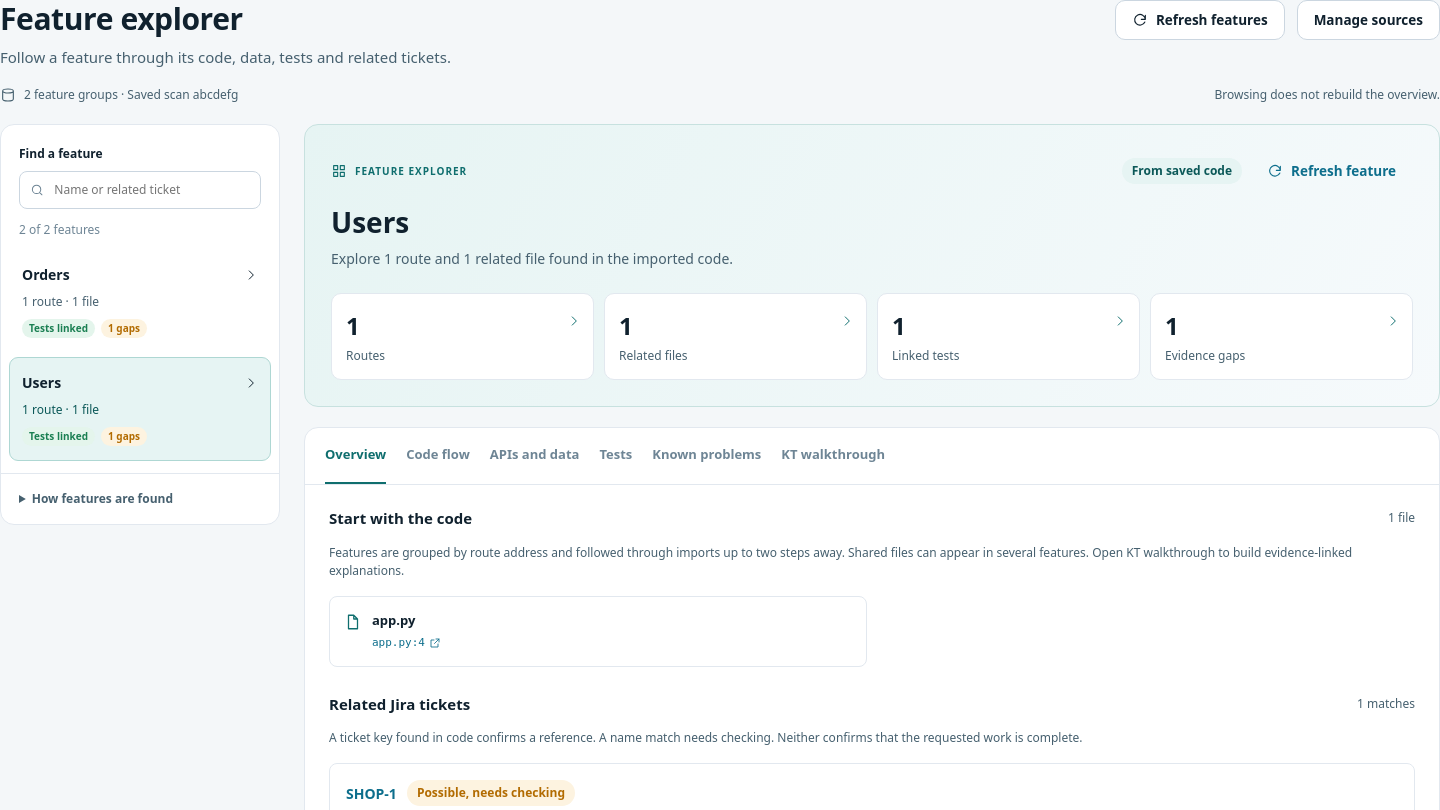
Scenario: opens a deep-linked feature and changes tabs without generating or rereading data
The image size is (1440, 810).
Expected: the heading "Users" is shown, [331,203,409,241]
Click the tab "Code flow" at (438, 456), box [406,428,470,484]
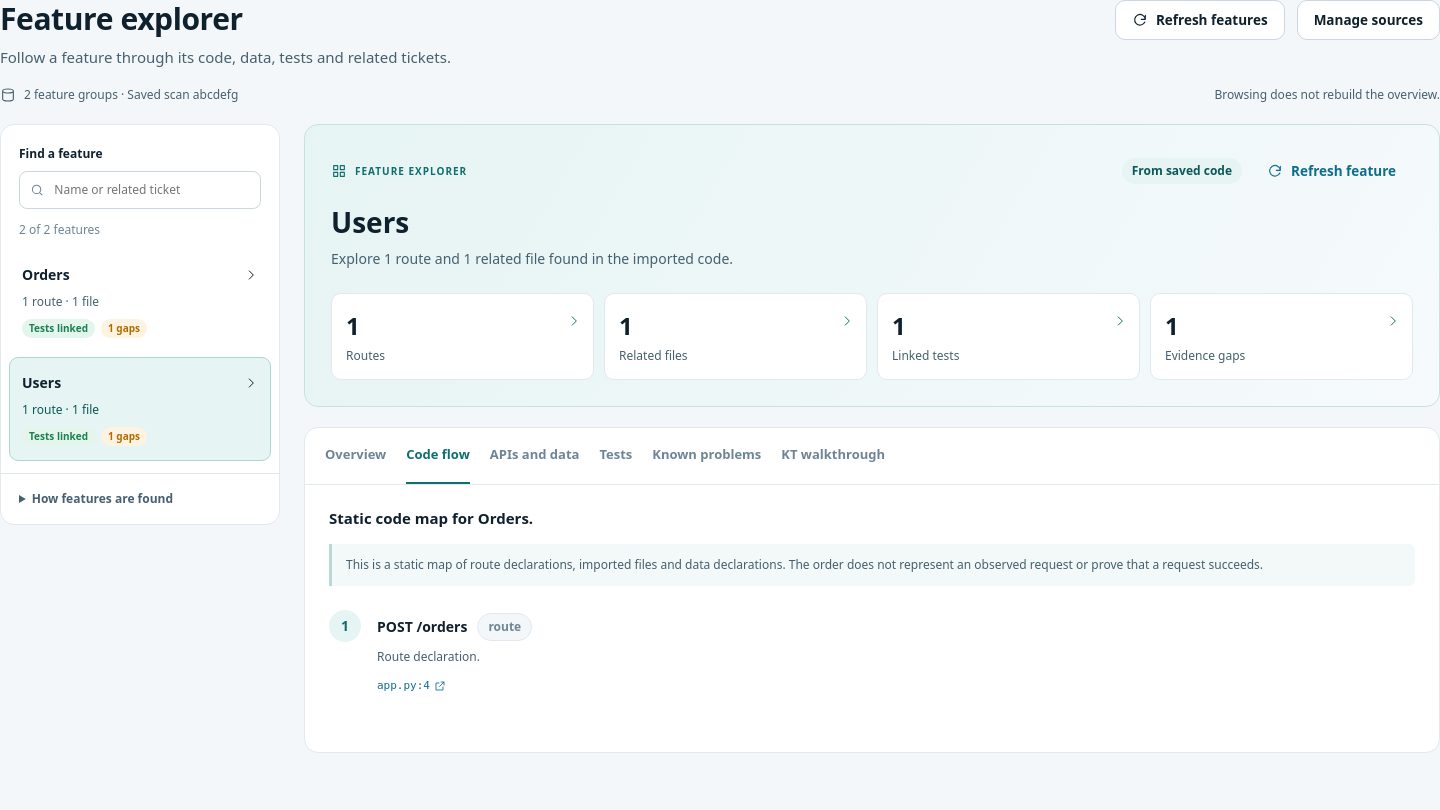
Result: the panel with id "feature-panel" shows "does not represent an observed request" at [346,556,1263,572]
Click the tab "APIs and data" at (535, 456), box [490,428,579,484]
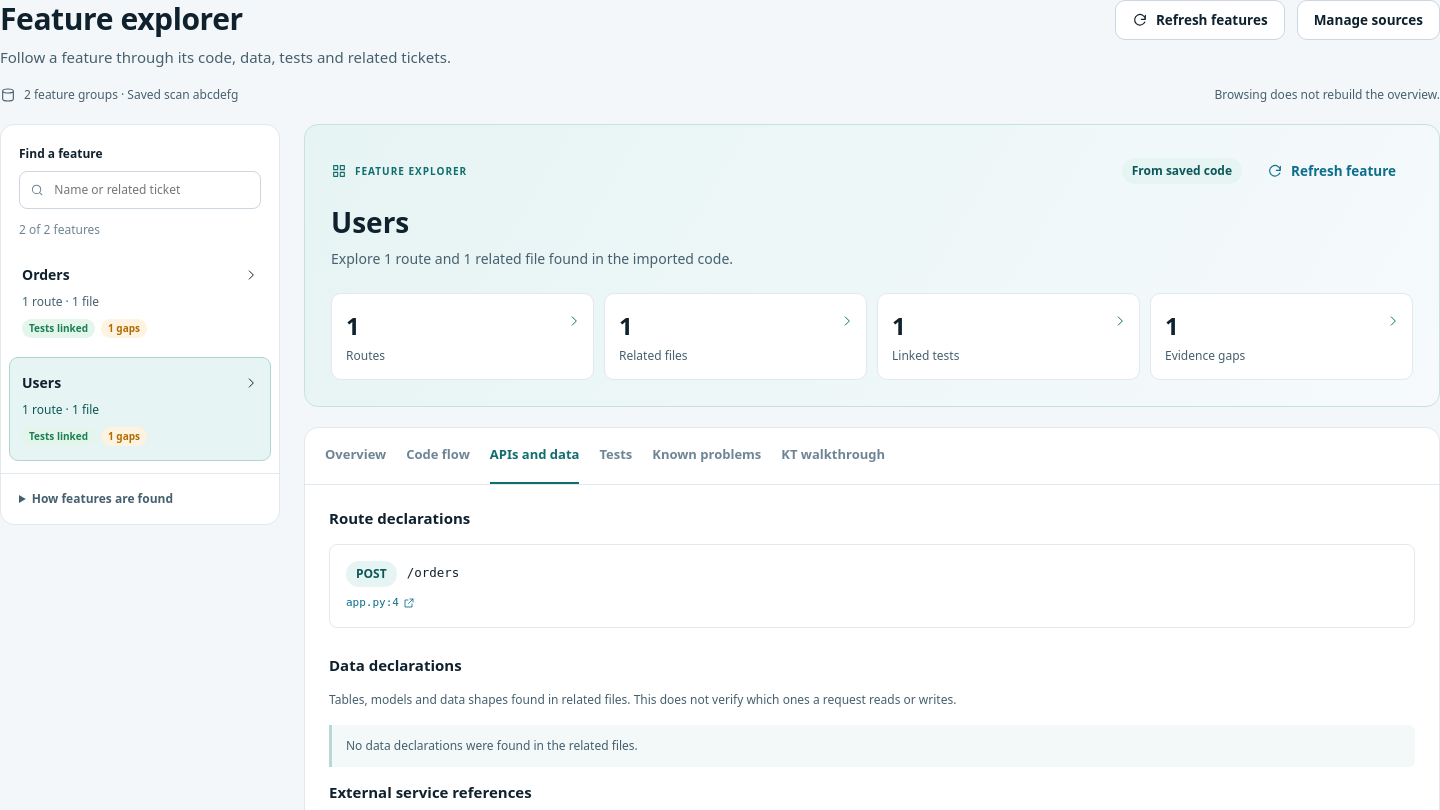
Result: the panel with id "feature-panel" shows "/orders" at [407,565,459,580]
Click the tab "Tests" at (616, 456), box [599,428,632,484]
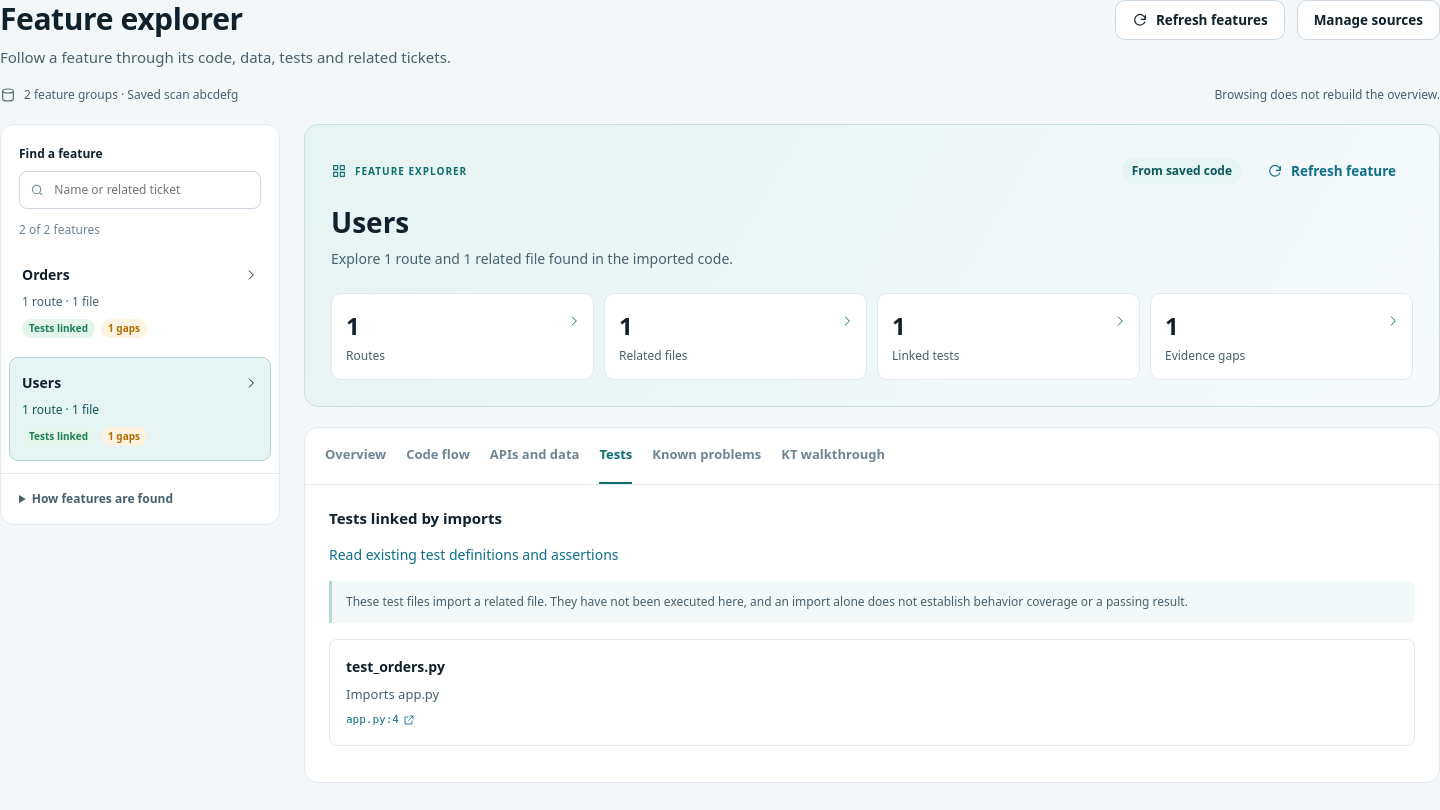
Result: the panel with id "feature-panel" shows "not been executed here" at [346,592,1188,610]
Click the tab "Known problems" at (707, 456), box [652,428,761,484]
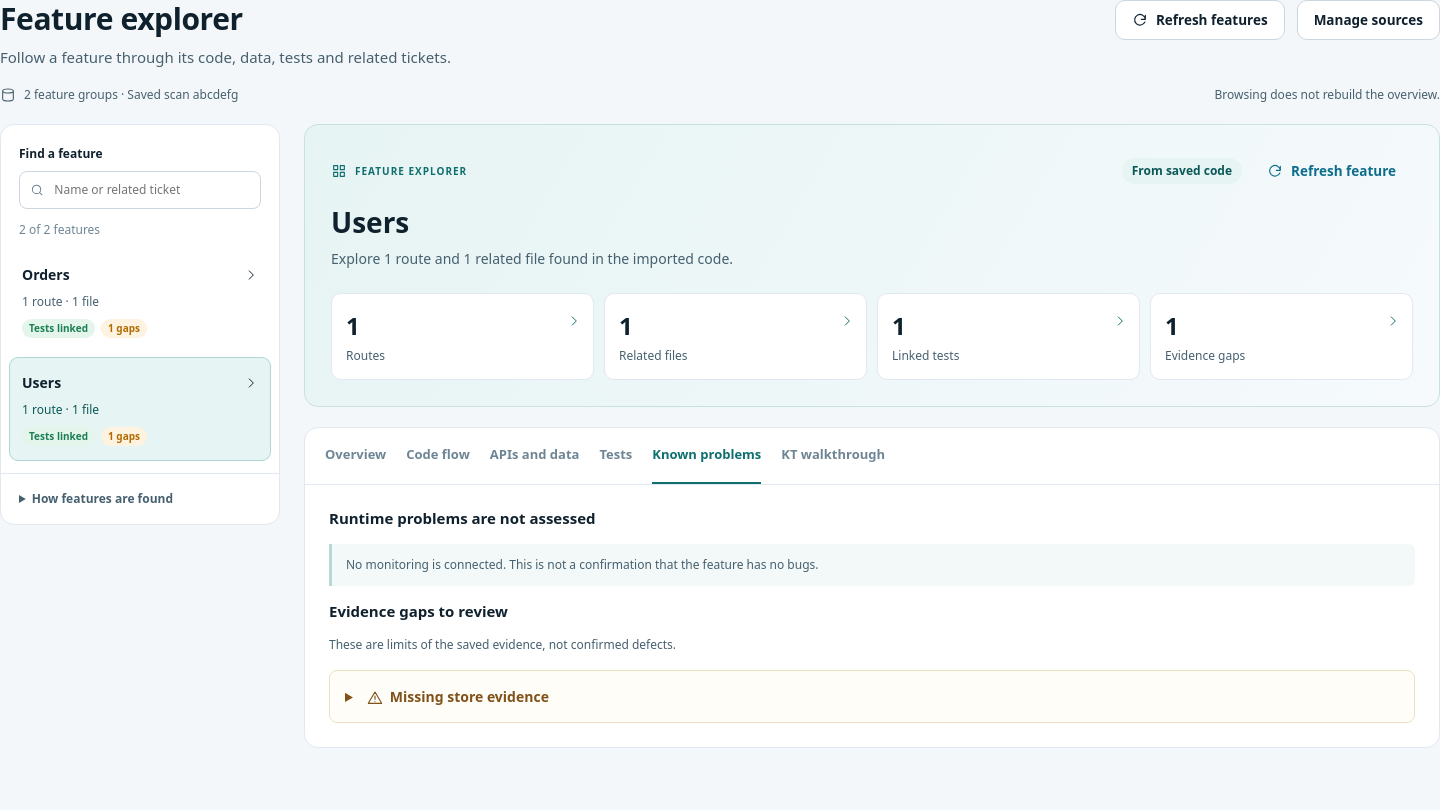
Result: the panel with id "feature-panel" shows "not confirmed defects" at [329,636,676,653]
Result: the heading "Missing store evidence" is shown at [367,687,549,706]
